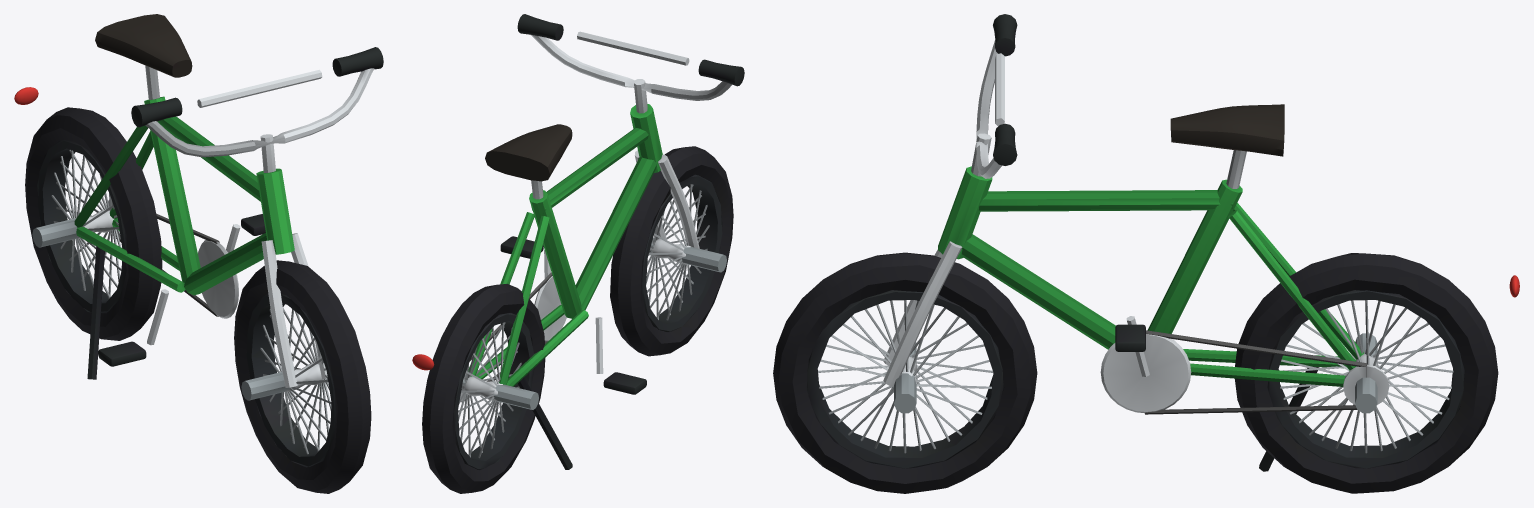
Rendered from veh-bmx.glb.
3 renders of one model, left to right at view 1: azimuth 30°, elevation 25°; view 2: azimuth 150°, elevation 25°; view 3: azimuth 270°, elevation 25°, orthographic. The views are drawn at different scales.
Visible parts, largest first — view 1: body, wheel0, wheel1; view 2: body, wheel1, wheel0; view 3: body, wheel0, wheel1.
Part boxes in pixels (x1,y1,x2,y2): body: [14, 14, 383, 400]; wheel0: [234, 260, 371, 493]; wheel1: [25, 107, 162, 340]; body: [412, 14, 744, 469]; wheel1: [422, 284, 545, 493]; wheel0: [610, 146, 733, 356]; body: [883, 14, 1519, 471]; wheel0: [773, 252, 1037, 493]; wheel1: [1235, 253, 1498, 493].
Bounding box in the file's own units: 0.61 × 0.8988 × 1.46.
